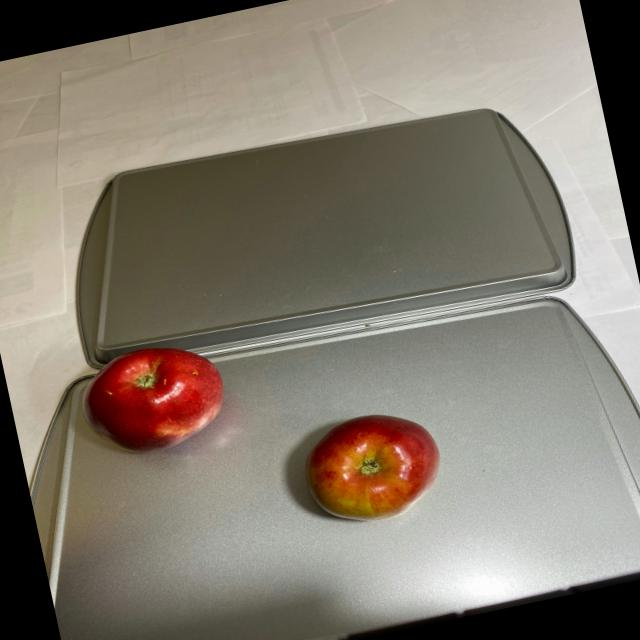apple: (73, 336, 235, 466), (294, 401, 451, 534)
